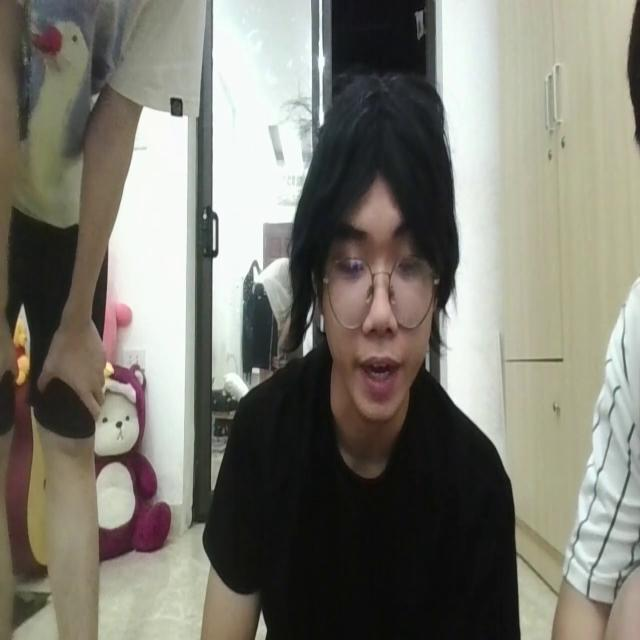extra_person: (1, 0, 200, 640)
student: (194, 73, 518, 640)
